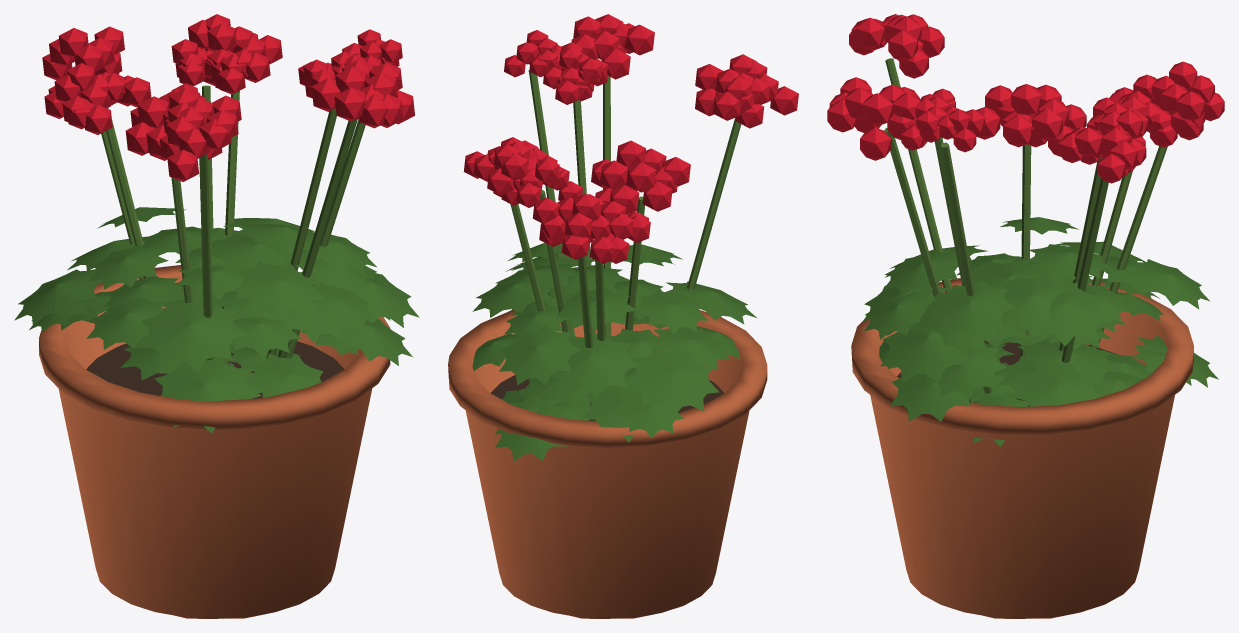
The model's file is maceta_geranios.glb.
3 renders of one model, left to right at view 1: azimuth 30°, elevation 25°; view 2: azimuth 150°, elevation 25°; view 3: azimuth 270°, elevation 25°, orthographic. The views are drawn at different scales.
Visible parts, largest first — view 1: maceta, hojas, flores, tallo_0, tierra; view 2: maceta, hojas, flores, tallo_0, tierra; view 3: maceta, hojas, flores, tallo_0.
Boxes of the visible parts, box(x1,y1,x2,y2) form: maceta: box(39, 265, 390, 618); hojas: box(14, 207, 419, 433); flores: box(42, 14, 414, 181); tallo_0: box(101, 85, 365, 393); tierra: box(86, 341, 344, 398); maceta: box(448, 310, 767, 618); hojas: box(472, 242, 757, 461); flores: box(463, 14, 798, 263); tallo_0: box(510, 70, 741, 420); tierra: box(490, 374, 724, 420); maceta: box(851, 278, 1193, 618); hojas: box(863, 217, 1218, 446); flores: box(827, 14, 1224, 183); tallo_0: box(884, 58, 1167, 403).
Bounding box in the file's own units: 0.3259 × 0.5507 × 0.3756.
